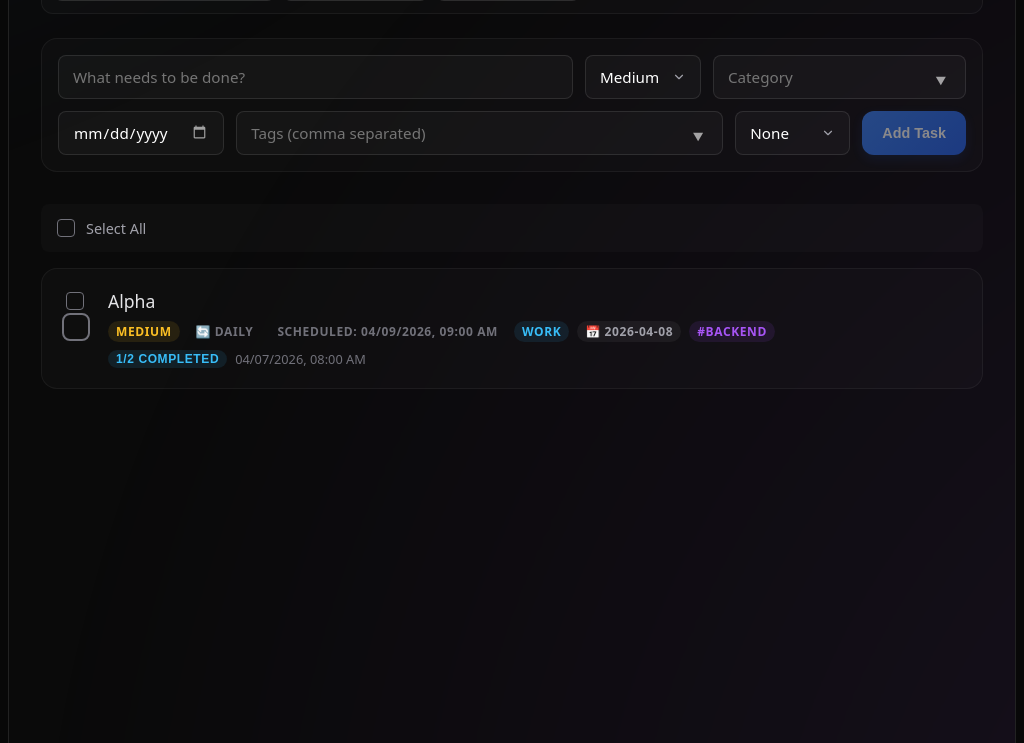
Test: TodoList reset behavior › creates and updates checklist state without reloading the full todo list
(page scrolled)
Click the button with class "checklist-toggle-btn" at [168, 359], box x1=108 y1=350 x2=227 y2=368
(page scrolled)
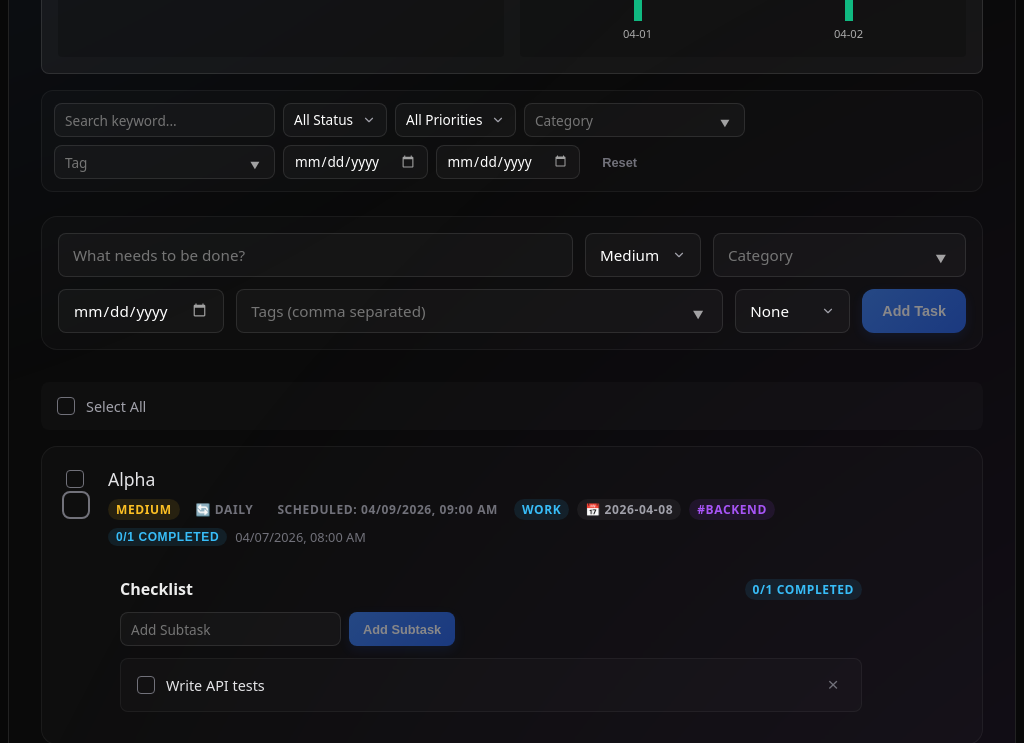
Type "Ship checklist UI" into the field with placeholder "Add Subtask" at [230, 629], box x1=120 y1=612 x2=341 y2=646
(page scrolled)
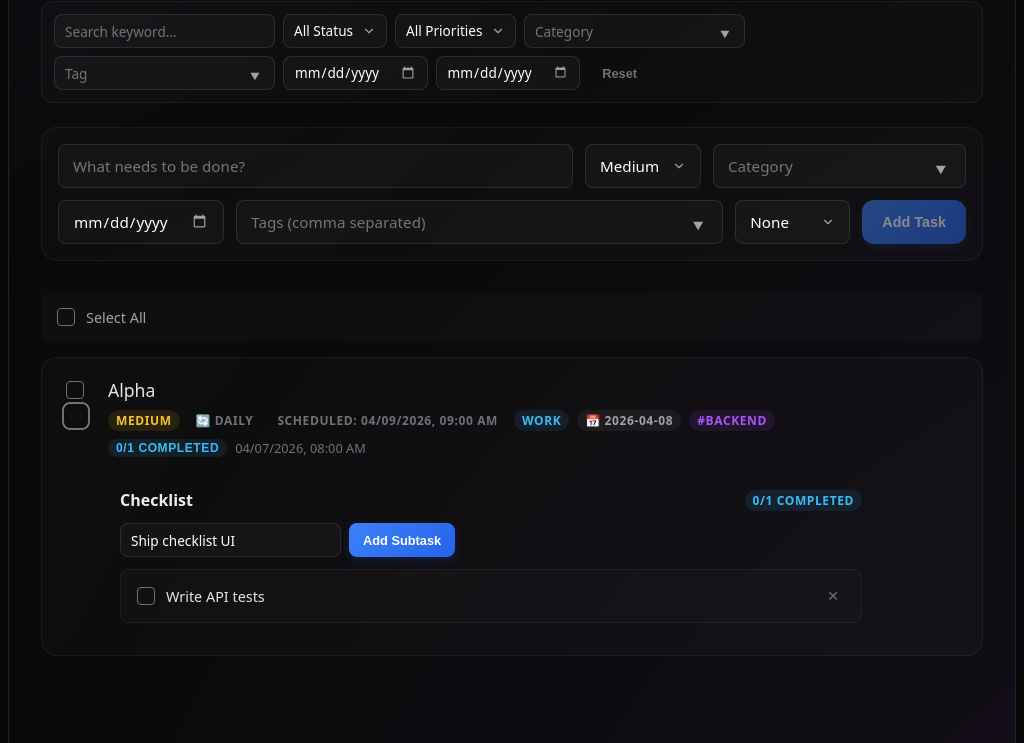
Click the button "Add Subtask" at [402, 540], box x1=349 y1=523 x2=455 y2=557
(page scrolled)
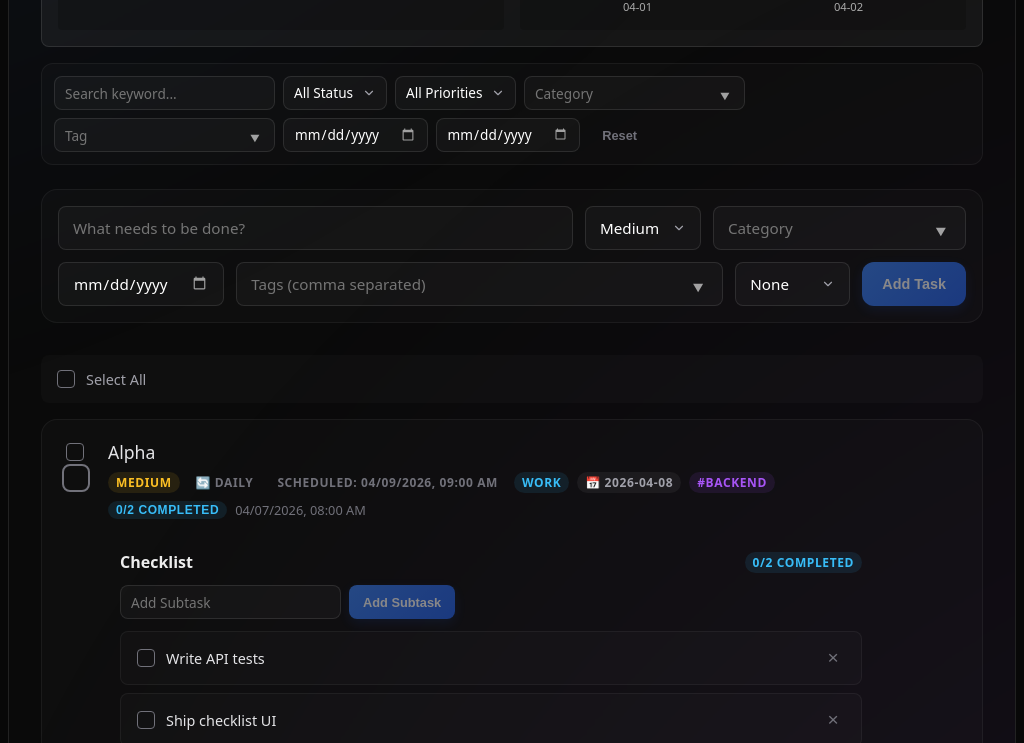
Expected: the text "Ship checklist UI" is shown, x1=166 y1=710 x2=276 y2=730
